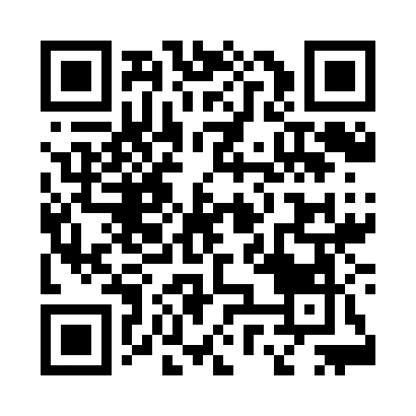qr: (35, 35, 380, 383)
